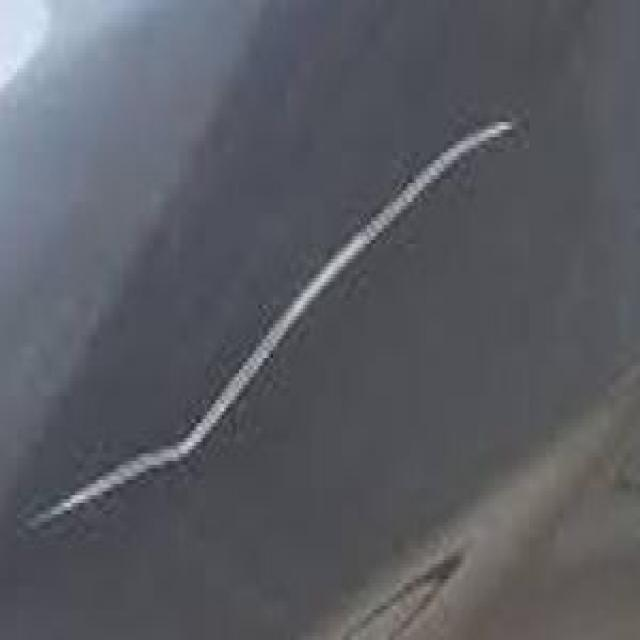scratch: (17, 95, 527, 549)
